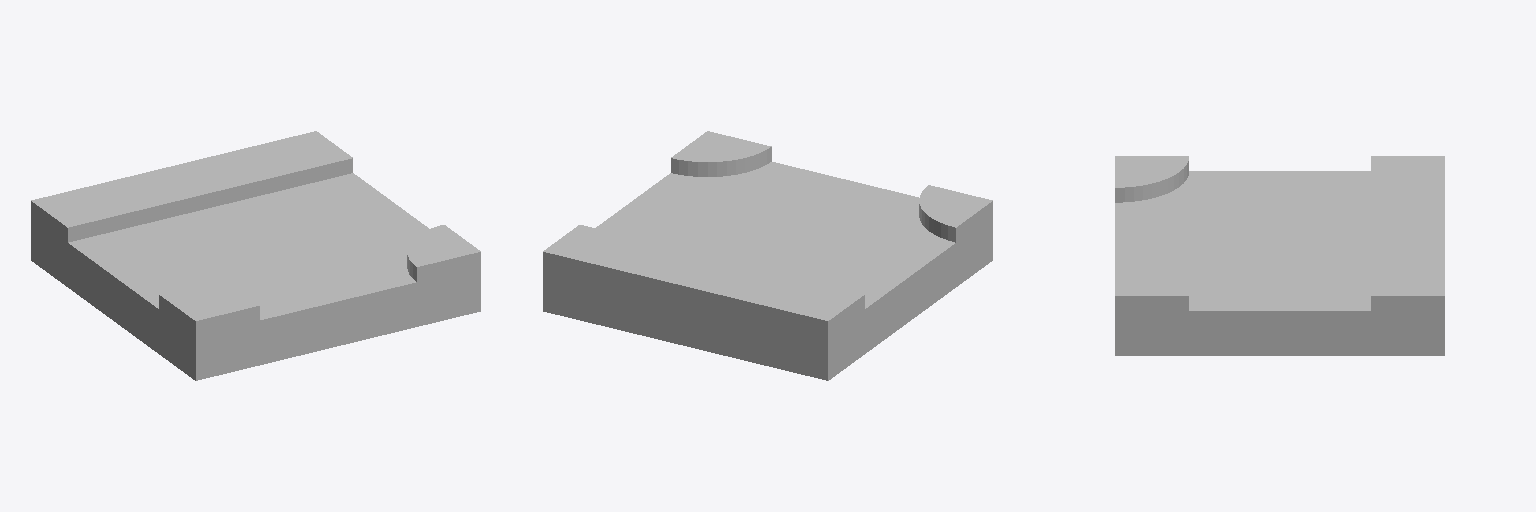
Rendered from snow_tile_split.obj.
3 views of the same model, side by side, from view 1: azimuth 30°, elevation 25°; view 2: azimuth 150°, elevation 25°; view 3: azimuth 270°, elevation 25° (orthographic).
Parts seen in each view (by area): view 1: snow_tile_split; view 2: snow_tile_split; view 3: snow_tile_split.
Part boxes in pixels (bbox=[...]): snow_tile_split: bbox=[31, 131, 480, 380]; snow_tile_split: bbox=[543, 131, 992, 380]; snow_tile_split: bbox=[1115, 156, 1444, 355].
Size of the model in its own units: 1 by 0.2 by 1.